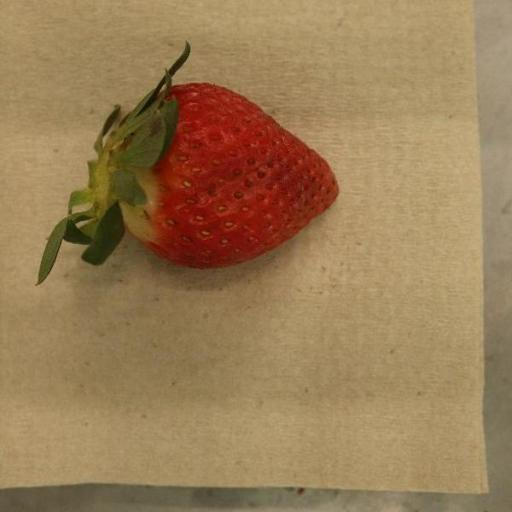Strawberry: (37, 45, 340, 285)
